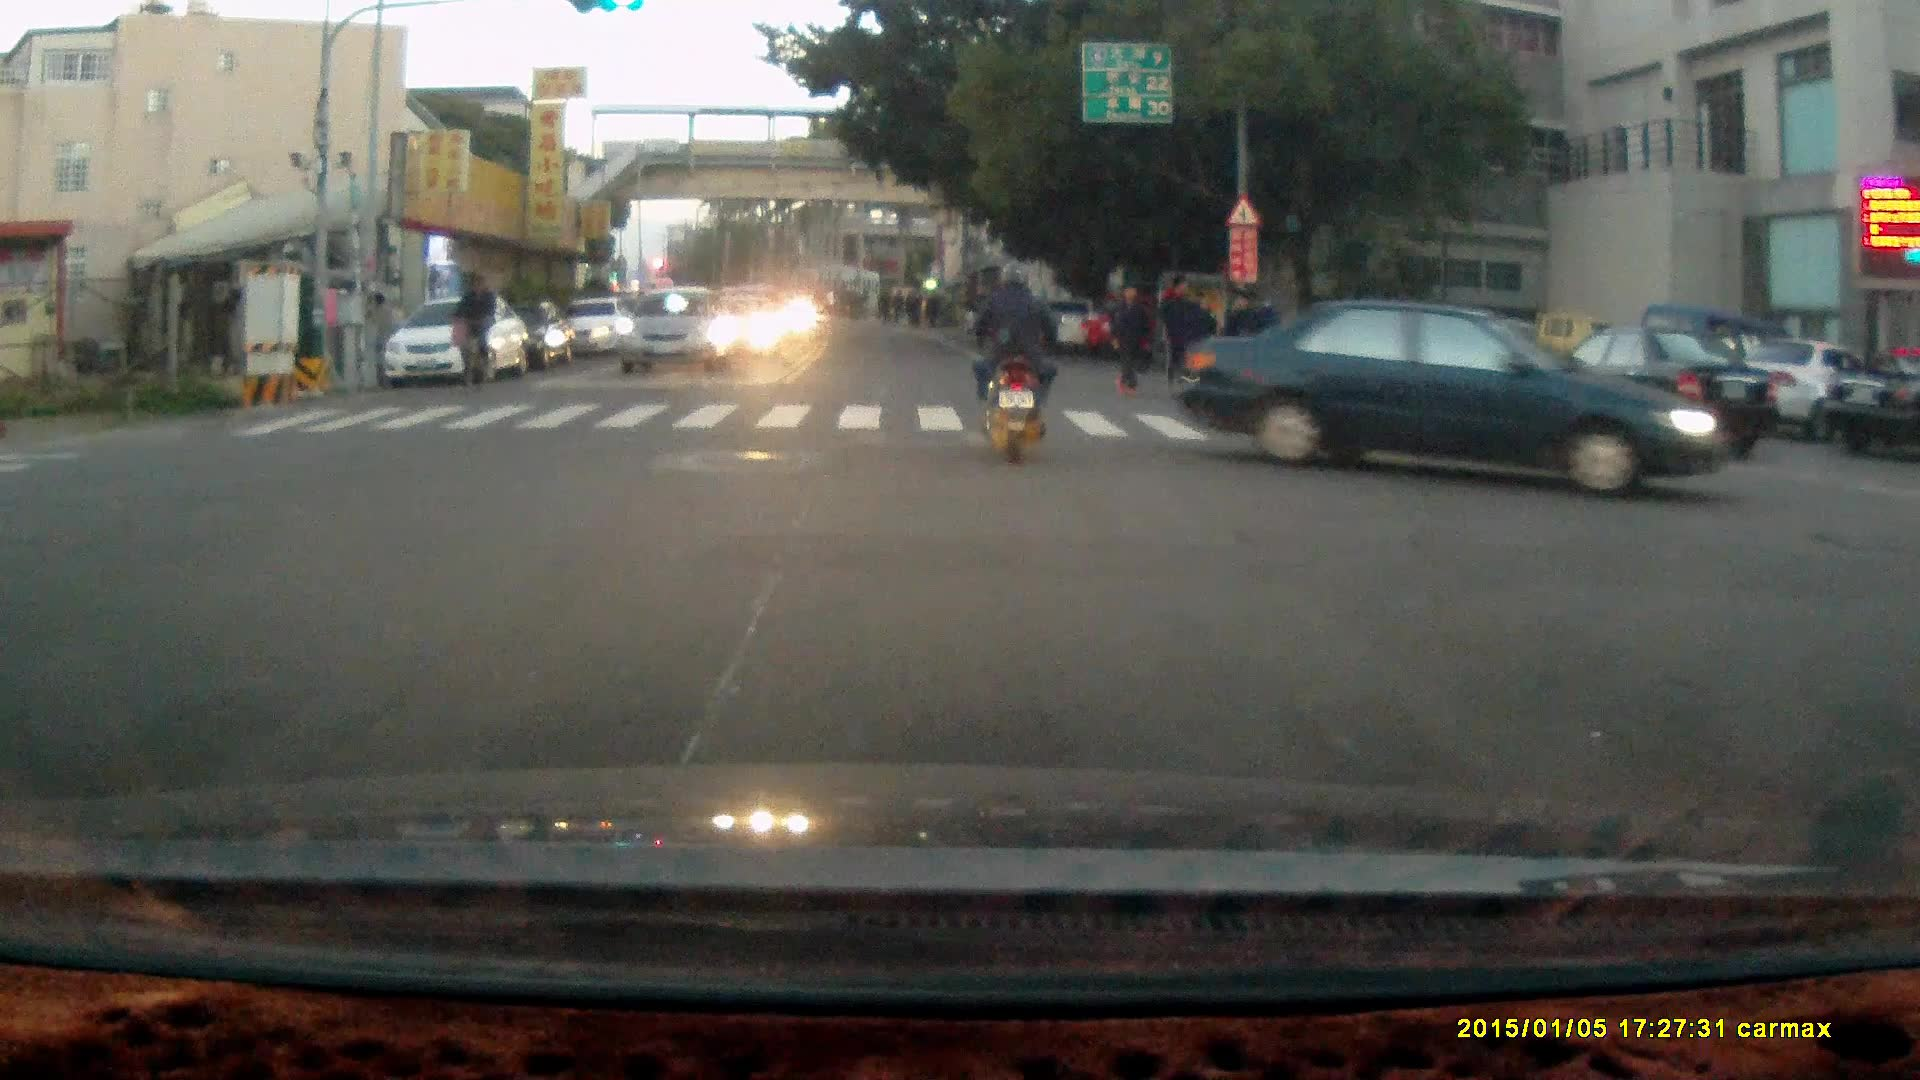pedestrian: (1109, 283, 1149, 399), (1159, 271, 1197, 392), (1221, 289, 1259, 402), (1181, 289, 1214, 377)
rider: (966, 259, 1061, 465), (449, 269, 494, 391)
vehicle: (1170, 290, 1740, 499), (1532, 327, 1782, 452), (1715, 337, 1900, 441), (381, 293, 537, 391), (614, 288, 739, 380), (1820, 354, 1920, 462), (1087, 298, 1202, 366)
